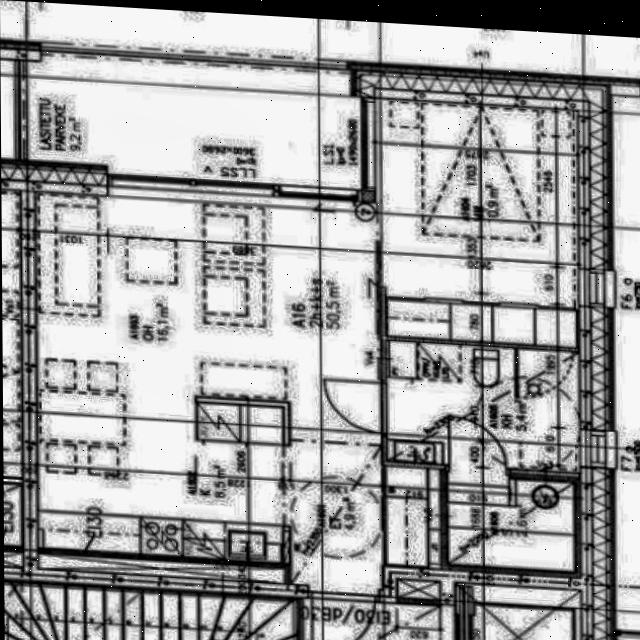room: (380, 341, 588, 472), (443, 475, 580, 572)
